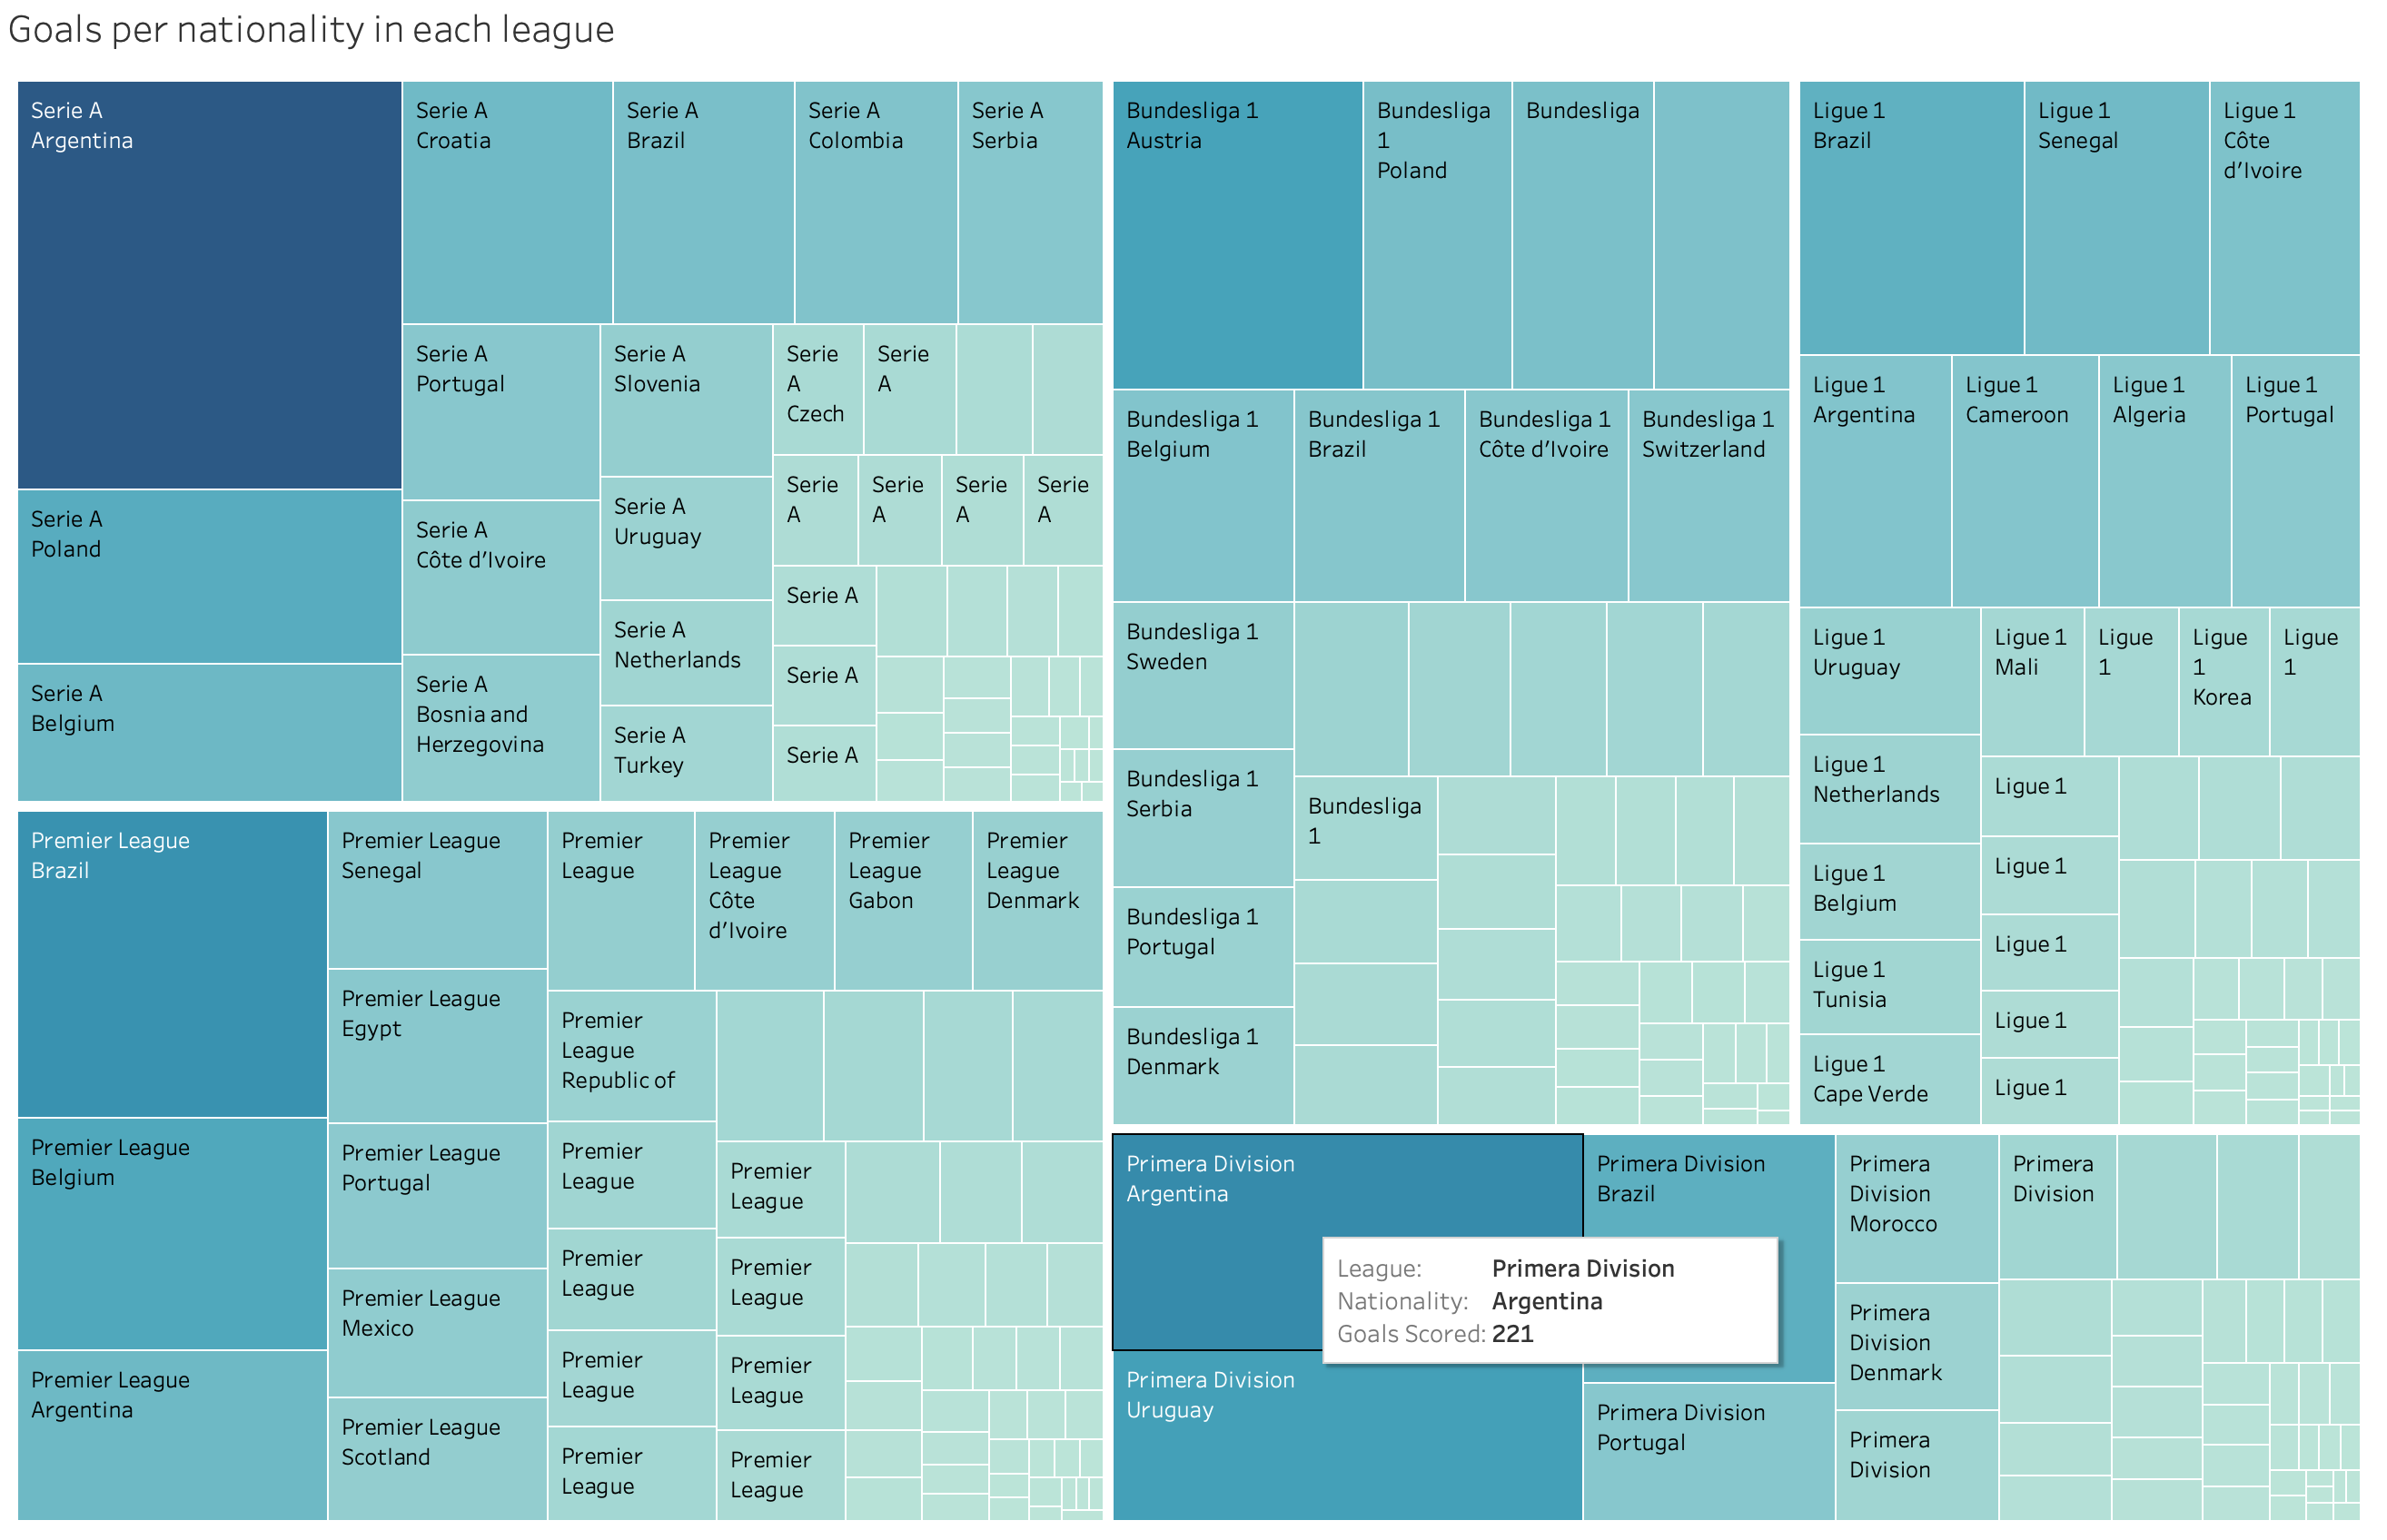

Layout of this report page (visuals, bound fields, positions):
{"tool":"tableau","page":{"name":"Dashboard 2","canvas":[1000,800],"ordinal":1},"visuals":[{"type":"worksheet","box":[0,0,1000,800]},{"type":"worksheet","param":"horz","box":[8,8,984,784]},{"type":"worksheet","box":[8,8,824,784]},{"type":"worksheet","title":"World Goals","mark":"Automatic","box":[8,8,824,392]},{"type":"worksheet","param":"vert","box":[832,8,160,784]},{"type":"worksheet","title":"World Goals","mark":"Automatic","param":"[federated.128mrar0wew9m41cndev70znuj69].[sum:goals_scored:qk]","box":[832,8,160,65]},{"type":"worksheet","title":"World Goals II","mark":"Automatic","rows":["nationality"],"cols":["goals_scored"],"box":[8,400,824,392]}]}

Visuals, with their boxes on the page's 1000x800 design canvas (x1, y1, x2, y2). These are canvas units, not pixel positions in the 2387x1540 screenshot, which may show the page scaled, cropped or inside an application window:
worksheet: bbox=(0, 0, 1000, 800)
worksheet: bbox=(8, 8, 992, 792)
worksheet: bbox=(8, 8, 832, 792)
"World Goals" worksheet: bbox=(8, 8, 832, 400)
worksheet: bbox=(832, 8, 992, 792)
"World Goals" worksheet: bbox=(832, 8, 992, 73)
"World Goals II" worksheet: bbox=(8, 400, 832, 792)
